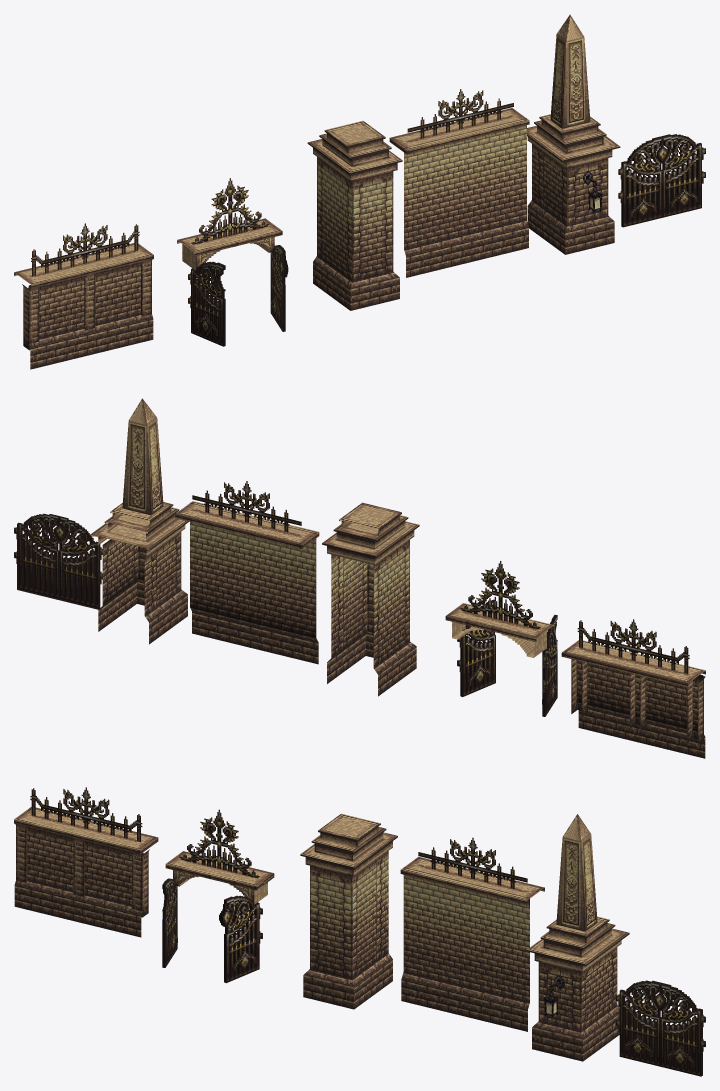
Rendered from ObjMD_Gate_A_TallPillar.FBX.
The picture shows the model from 3 angles, top to bottom: view 1: azimuth 30°, elevation 25°; view 2: azimuth 150°, elevation 25°; view 3: azimuth 330°, elevation 25°; orthographic projection. The views are drawn at different scales.
Parts seen in each view (by area): view 1: ObjMD_Gate_A_TallWall, ObjMD_Gate_A_Wall, ObjMD_Gate_A_TallPillar, ObjMD_Gate_A_Pillar, ObjMD_Gate_A_Gate_Close, ObjMD_Gate_A_Gate_Open, ObjMD_Gate_A_Gate; view 2: ObjMD_Gate_A_TallWall, ObjMD_Gate_A_Wall, ObjMD_Gate_A_TallPillar, ObjMD_Gate_A_Pillar, ObjMD_Gate_A_Gate_Close, ObjMD_Gate_A_Gate, ObjMD_Gate_A_Gate_Open; view 3: ObjMD_Gate_A_TallWall, ObjMD_Gate_A_Wall, ObjMD_Gate_A_TallPillar, ObjMD_Gate_A_Pillar, ObjMD_Gate_A_Gate_Close, ObjMD_Gate_A_Gate_Open, ObjMD_Gate_A_Gate.
Boxes of the visible parts, x1,y1,x2,y2 form: ObjMD_Gate_A_TallWall: (389,89,529,277); ObjMD_Gate_A_Wall: (14,223,153,369); ObjMD_Gate_A_TallPillar: (307,121,402,310); ObjMD_Gate_A_Pillar: (527,14,620,254); ObjMD_Gate_A_Gate_Close: (618,134,705,227); ObjMD_Gate_A_Gate_Open: (188,245,288,346); ObjMD_Gate_A_Gate: (177,178,282,270); ObjMD_Gate_A_TallWall: (175,481,319,664); ObjMD_Gate_A_Wall: (561,619,705,758); ObjMD_Gate_A_TallPillar: (322,502,419,696); ObjMD_Gate_A_Pillar: (90,398,188,644); ObjMD_Gate_A_Gate_Close: (14,513,102,609); ObjMD_Gate_A_Gate: (445,561,554,657); ObjMD_Gate_A_Gate_Open: (457,599,557,716); ObjMD_Gate_A_TallWall: (400,837,544,1031); ObjMD_Gate_A_Wall: (14,787,158,937); ObjMD_Gate_A_TallPillar: (300,813,397,1009); ObjMD_Gate_A_Pillar: (526,814,629,1061); ObjMD_Gate_A_Gate_Close: (615,980,705,1076); ObjMD_Gate_A_Gate_Open: (162,878,262,983); ObjMD_Gate_A_Gate: (165,809,274,904).
Size of the model in its own units: 3297 by 1028 by 445.
